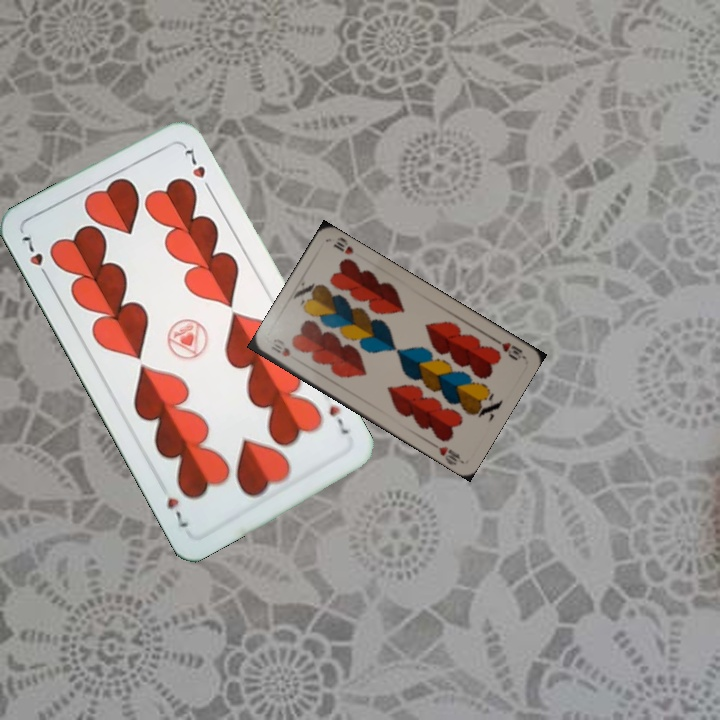H10: (489, 334, 526, 363), (267, 342, 293, 359)
H7: (17, 231, 53, 283), (325, 401, 351, 437)
